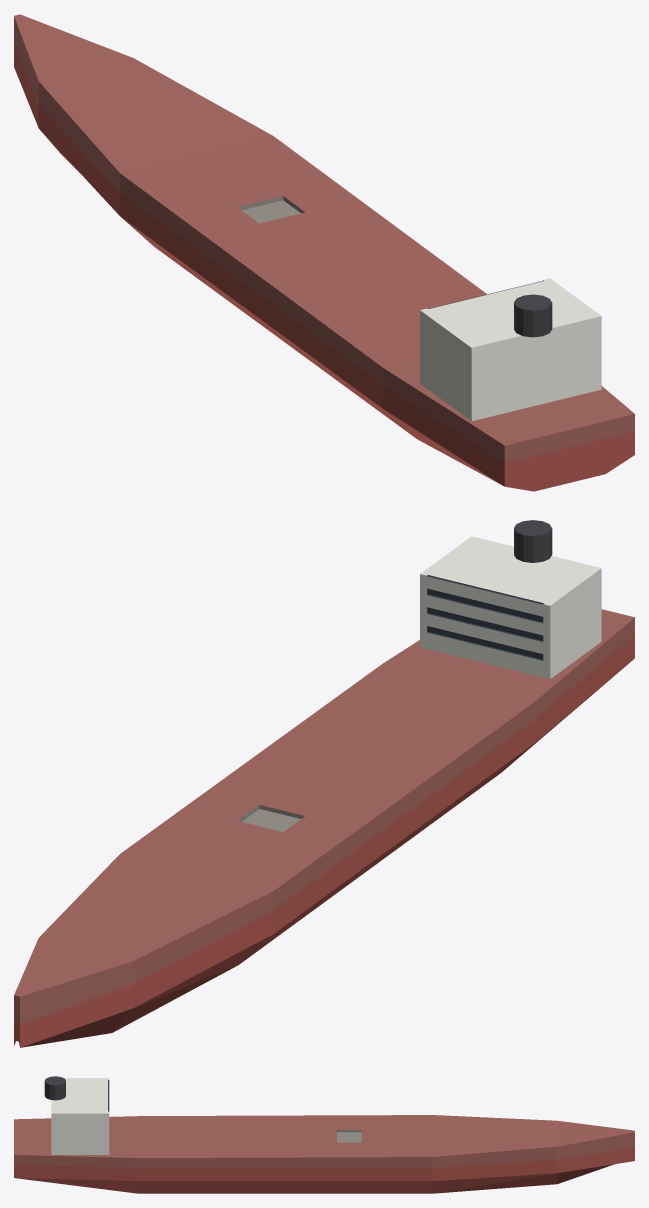
Rendered from tanker_lod1.glb.
The picture shows the model from 3 angles, top to bottom: view 1: azimuth 30°, elevation 25°; view 2: azimuth 150°, elevation 25°; view 3: azimuth 270°, elevation 25°; orthographic projection. The views are drawn at different scales.
Visible parts, largest first — view 1: tanker_lod1; view 2: tanker_lod1; view 3: tanker_lod1.
Boxes of the visible parts, x1,y1,x2,y2 form: tanker_lod1: (14, 14, 634, 491); tanker_lod1: (14, 520, 634, 1047); tanker_lod1: (14, 1076, 634, 1193).
Size of the model in its own units: 24 by 27 by 150.
